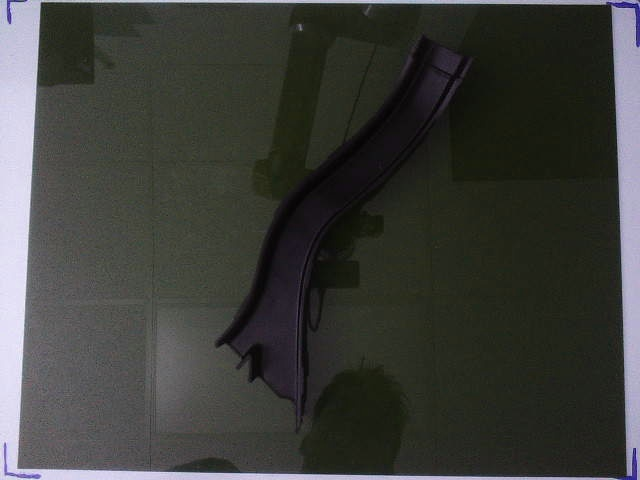887_B-Under: (216, 36, 472, 433)
